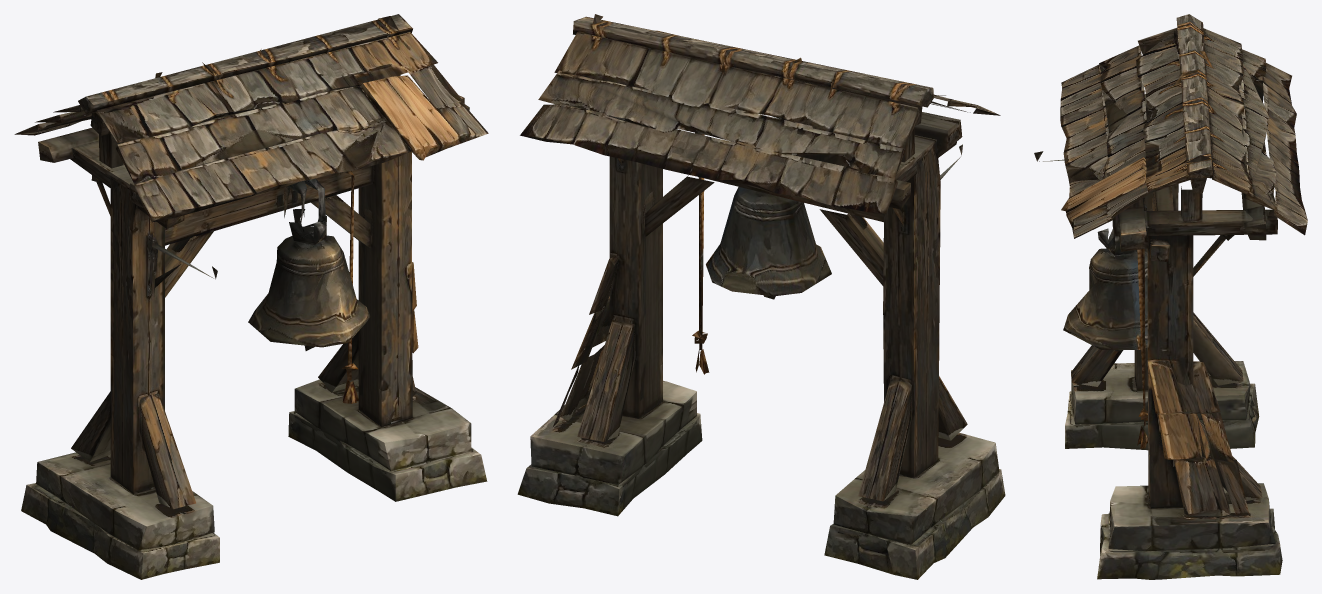
Rendered from act1_extras_v1_bell_frame.glb.
The picture shows the model from 3 angles, left to right: view 1: azimuth 30°, elevation 25°; view 2: azimuth 150°, elevation 25°; view 3: azimuth 270°, elevation 25°; orthographic projection. The views are drawn at different scales.
Parts seen in each view (by area): view 1: A15_4_bell_frame; view 2: A15_4_bell_frame; view 3: A15_4_bell_frame.
Part boxes in pixels (x1=…): A15_4_bell_frame: x1=14, y1=14, x2=488, y2=579; A15_4_bell_frame: x1=517, y1=14, x2=1005, y2=579; A15_4_bell_frame: x1=1034, y1=14, x2=1307, y2=579.
Size of the model in its own units: 0.9224 by 0.9917 by 0.6069.
Materials: 1 (1 with a texture image).
